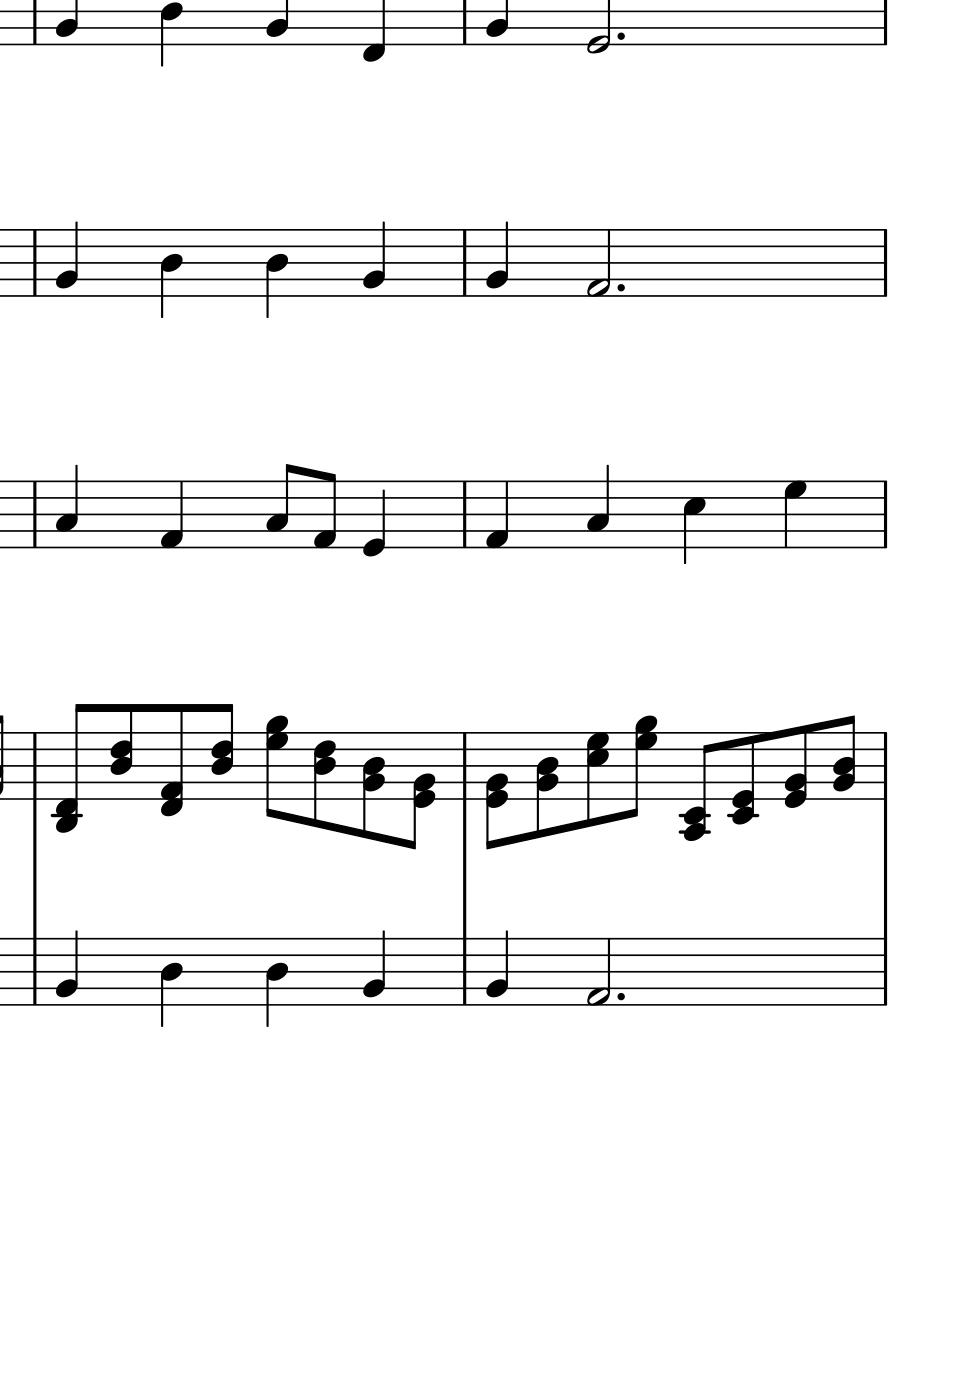2_1: (585, 227, 612, 298), (585, 936, 611, 1007)
4_0: (360, 477, 387, 558)
4_1: (483, 479, 510, 550), (158, 479, 185, 550)
4_2: (483, 928, 511, 1007), (361, 928, 388, 1007), (484, 220, 511, 298), (361, 220, 387, 298), (54, 220, 80, 299), (54, 928, 80, 1007)
4_3: (585, 463, 611, 550), (54, 463, 80, 549)
4_4: (263, 227, 290, 318), (158, 227, 183, 320), (158, 937, 183, 1027), (264, 937, 288, 1027)
4_5: (681, 479, 706, 566)
4_7: (782, 479, 808, 550)
8_-1_1: (159, 702, 185, 819)
8_-2_0: (727, 730, 762, 824)
8_-3_-1: (53, 701, 93, 835)
8_-4_-2: (678, 730, 714, 841)
8_0_2: (405, 731, 436, 852), (485, 731, 511, 853), (783, 724, 810, 809)
8_1: (311, 469, 337, 551)
8_2_4: (361, 731, 386, 842), (535, 730, 560, 840), (832, 713, 857, 803)
8_3: (264, 462, 298, 550)
8_4_6: (208, 702, 235, 801), (311, 730, 336, 832), (108, 703, 135, 801)
8_5_7: (584, 730, 612, 828)
8_7_9: (625, 715, 660, 820), (264, 714, 290, 820)
Single_barline: (456, 481, 474, 548), (27, 732, 43, 801), (876, 229, 893, 296), (876, 938, 893, 1005), (876, 731, 892, 800), (27, 481, 42, 548), (456, 732, 472, 799), (27, 938, 42, 1005), (457, 938, 473, 1005), (27, 230, 42, 296), (877, 481, 893, 547), (457, 231, 473, 296), (876, 1, 893, 45), (457, 1, 473, 45), (27, 1, 42, 43)
dot: (613, 29, 627, 43), (614, 989, 627, 1004), (614, 280, 626, 296)
